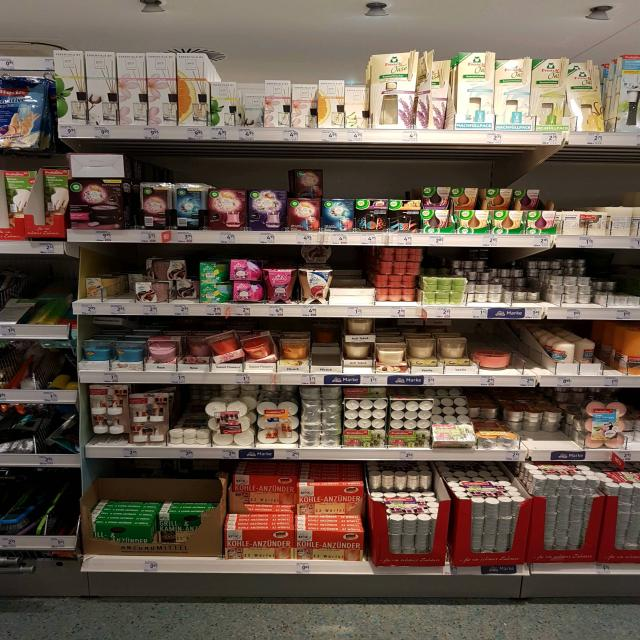empty: (515, 317, 546, 381)
